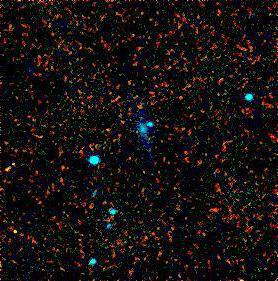star: (141, 110, 171, 140)
